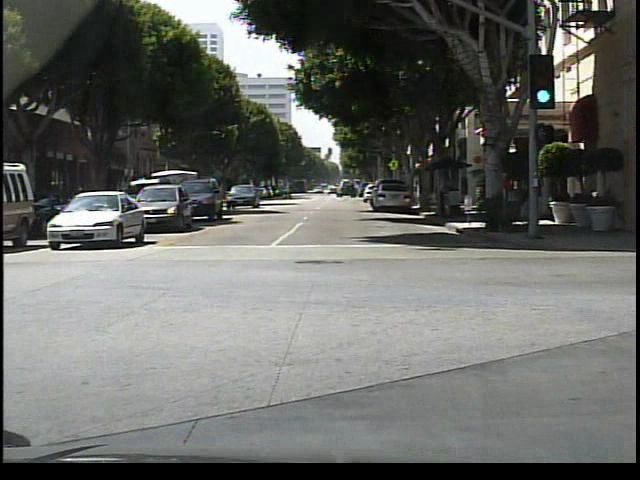person: (526, 162, 543, 235), (437, 172, 453, 218), (284, 184, 293, 201)
